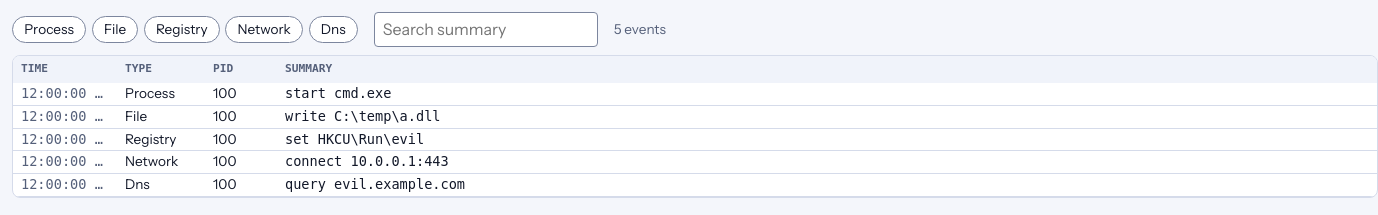
it: EventTable › EventTable_FiltersByType
The image size is (1378, 215).
Expected: the number of rows is 6, [13, 56, 1377, 83]; [13, 83, 1377, 106]; [13, 106, 1377, 128]; [13, 128, 1377, 151]; [13, 151, 1377, 174]; [13, 174, 1377, 196]
Click the button "File": (115, 29) [92, 16, 138, 43]
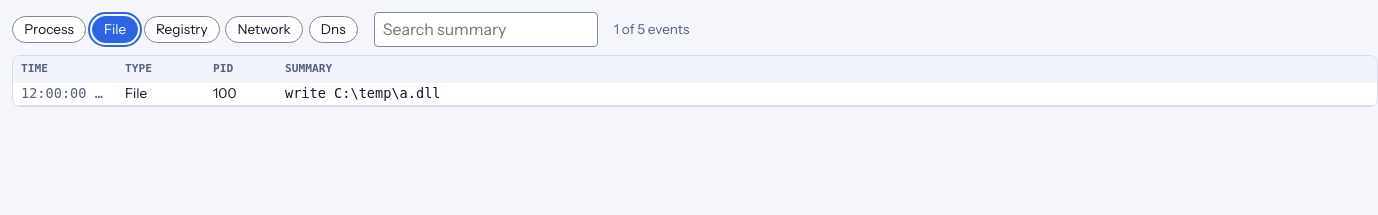
Expected: the text "write C:\\temp\\a.dll" is shown, [277, 83, 1377, 106]
Expected: the text "start cmd.exe" is gone
Expected: the number of rows is 2, [13, 56, 1377, 83]; [13, 83, 1377, 106]
Click the button "Dns": (333, 29) [309, 16, 358, 43]
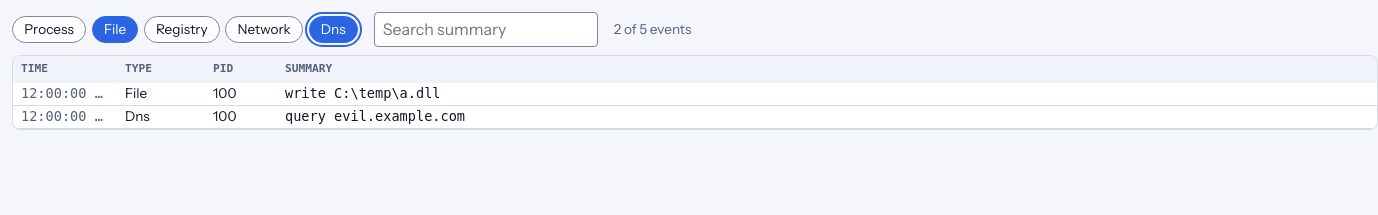
Expected: the number of rows is 3, [13, 56, 1377, 83]; [13, 83, 1377, 106]; [13, 106, 1377, 128]
Click the button "File": (115, 29) [92, 16, 138, 43]
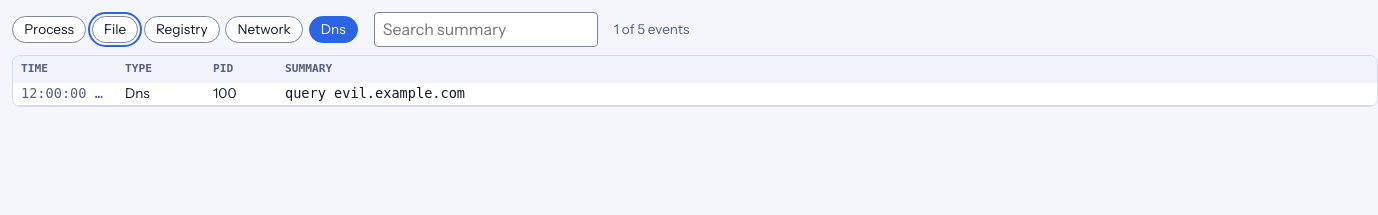
Click the button "Dns": (333, 29) [309, 16, 358, 43]
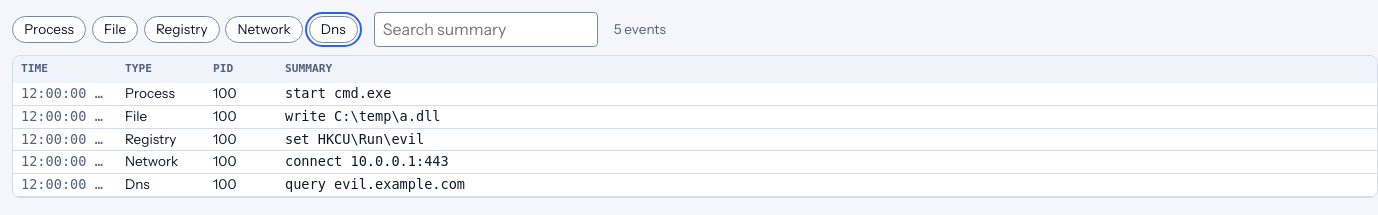
Expected: the number of rows is 6, [13, 56, 1377, 83]; [13, 83, 1377, 106]; [13, 106, 1377, 128]; [13, 128, 1377, 151]; [13, 151, 1377, 174]; [13, 174, 1377, 196]
